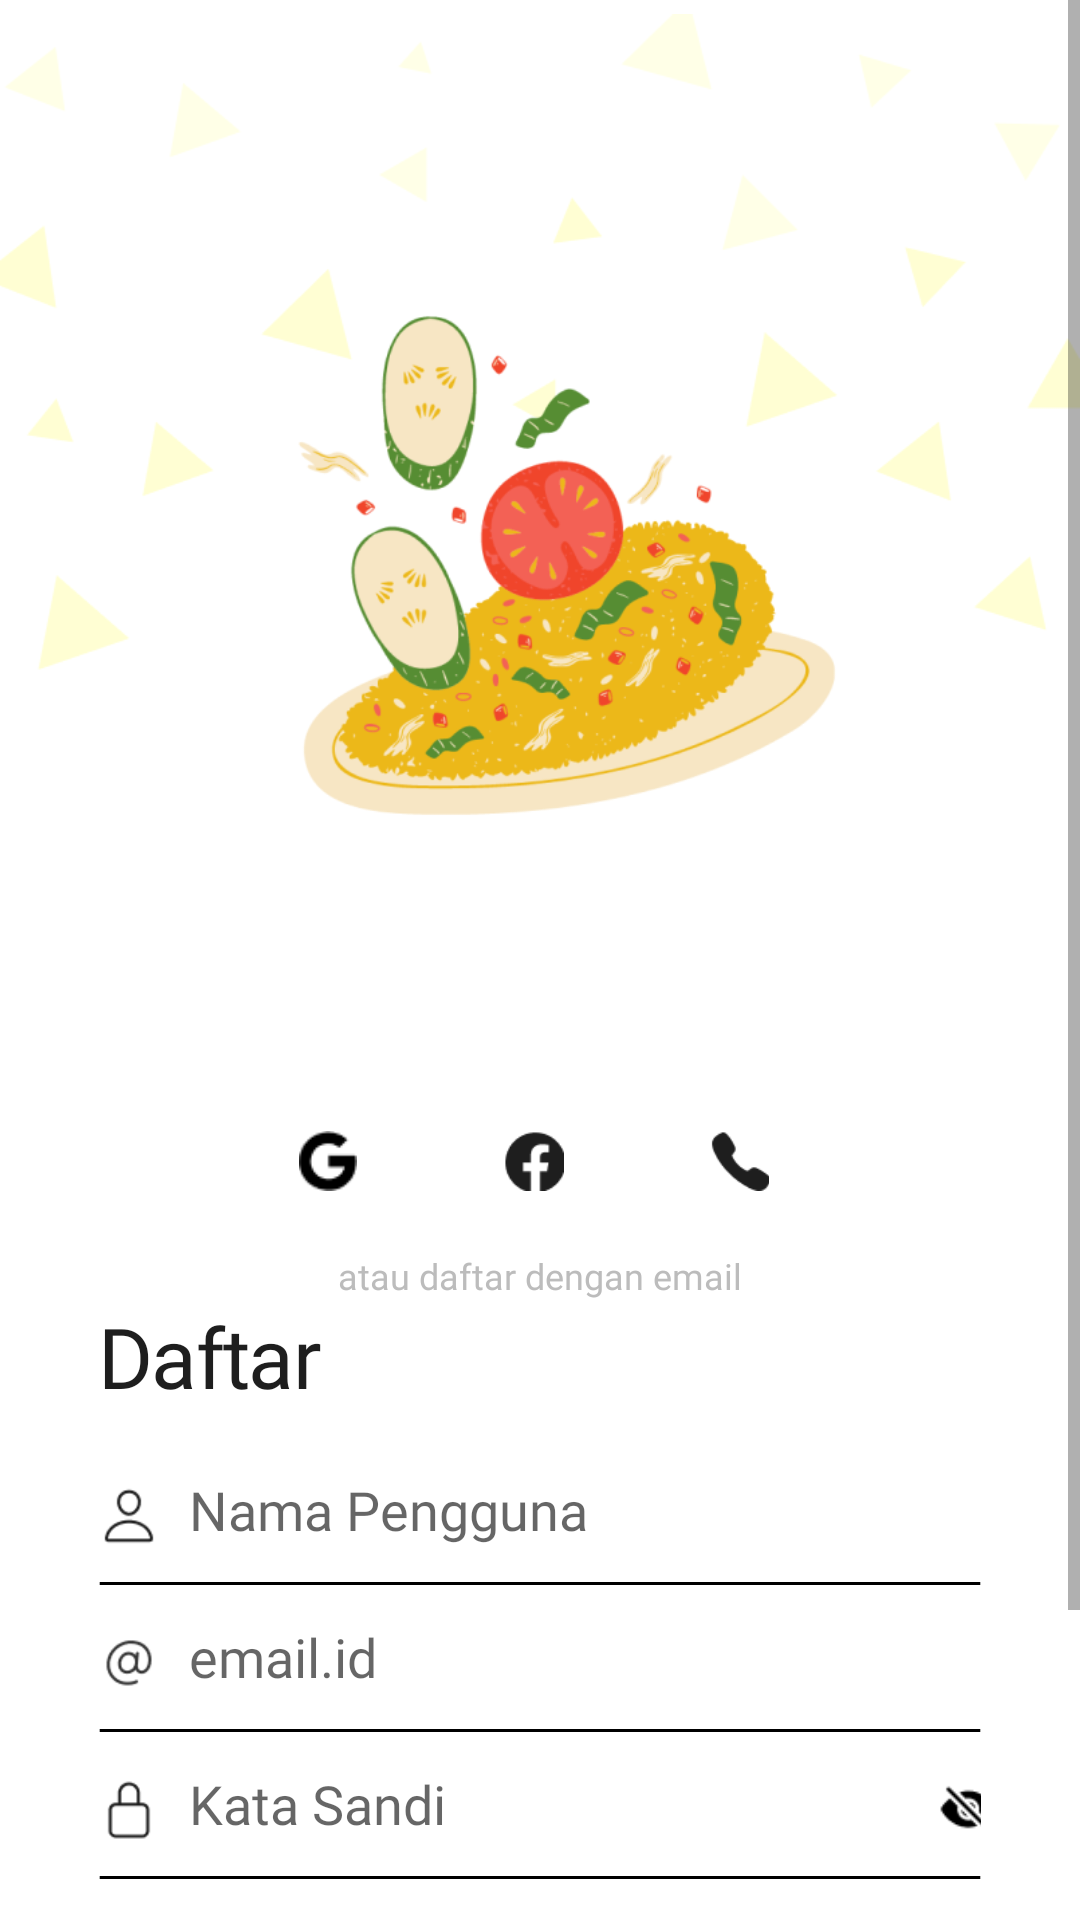

Where icons sit on this 1080 × 1920 app screen, as (x1,y1,x2,y2):
alternate email: (106,1640,152,1686)
locked: (108,1781,150,1839)
person: (104,1489,154,1543)
